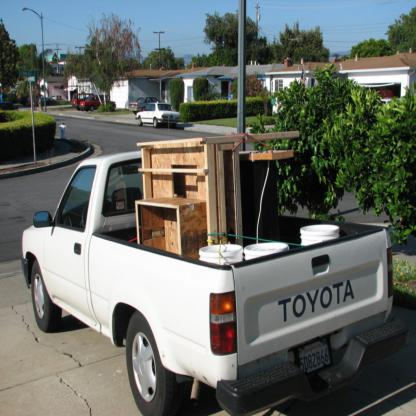Car: (136, 102, 179, 128), (128, 96, 161, 114), (79, 95, 116, 111), (71, 94, 94, 107)
Truck: (20, 149, 411, 415)
